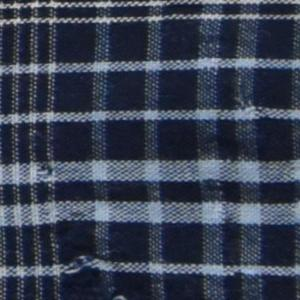Damage: (18, 160, 138, 300), (211, 64, 267, 127)
